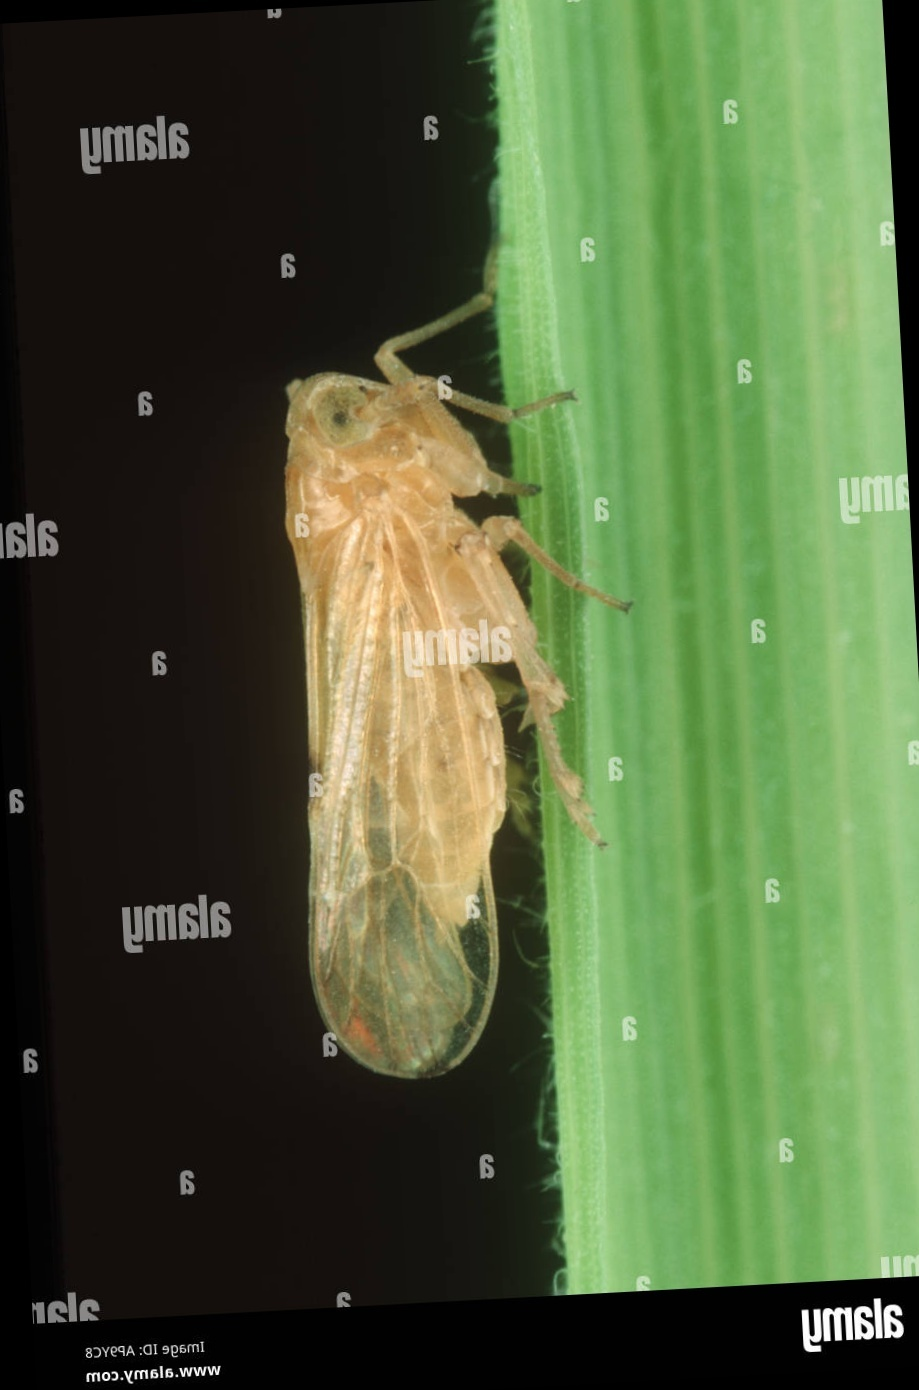Brown_hopper: (259, 256, 584, 1102)
